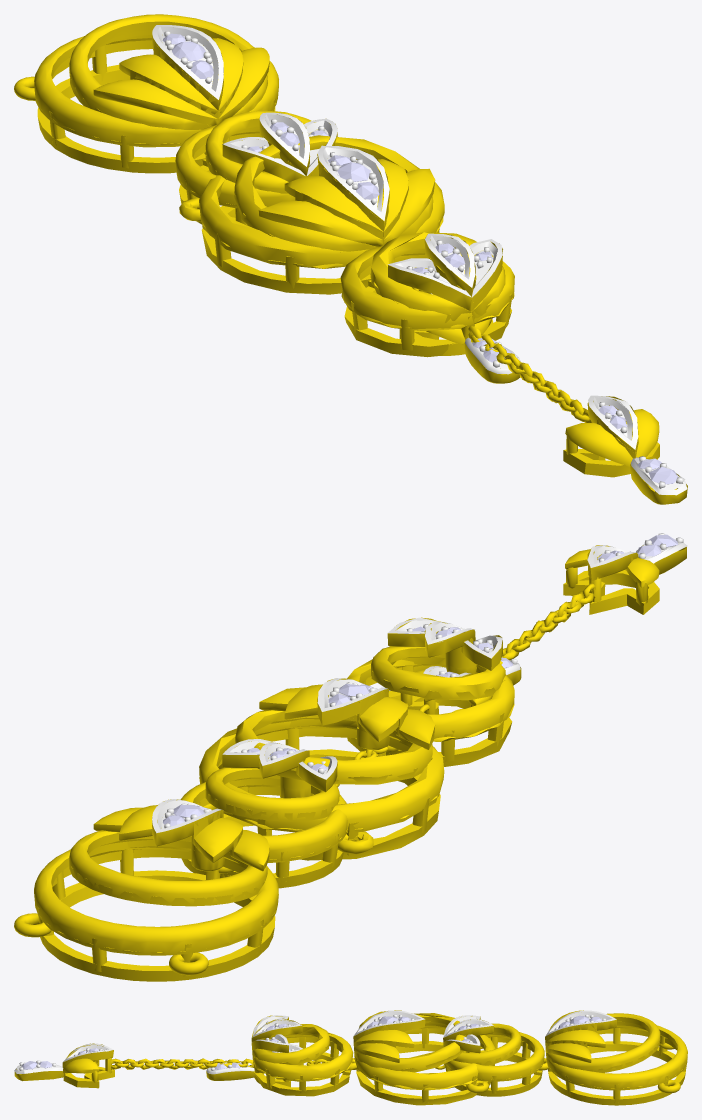
The model's file is DCP-D000724869.glb.
3 views of the same model, one above another, from view 1: azimuth 30°, elevation 25°; view 2: azimuth 150°, elevation 25°; view 3: azimuth 270°, elevation 25° (orthographic). The views are drawn at different scales.
Parts seen in each view (by area): view 1: lowPolyMesh, highPolyMesh; view 2: highPolyMesh, lowPolyMesh; view 3: lowPolyMesh, highPolyMesh.
Boxes of the visible parts, box(x1,y1,x2,y2) form: lowPolyMesh: box(179, 135, 687, 504); highPolyMesh: box(14, 14, 520, 383); highPolyMesh: box(14, 657, 521, 981); lowPolyMesh: box(199, 533, 687, 860); lowPolyMesh: box(14, 1010, 495, 1105); highPolyMesh: box(206, 1010, 687, 1105).
Size of the model in its own units: 0.0136 by 0.00632 by 0.0644.
